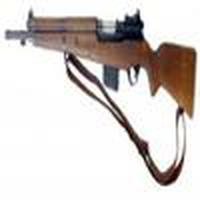gun: (3, 7, 199, 131)
